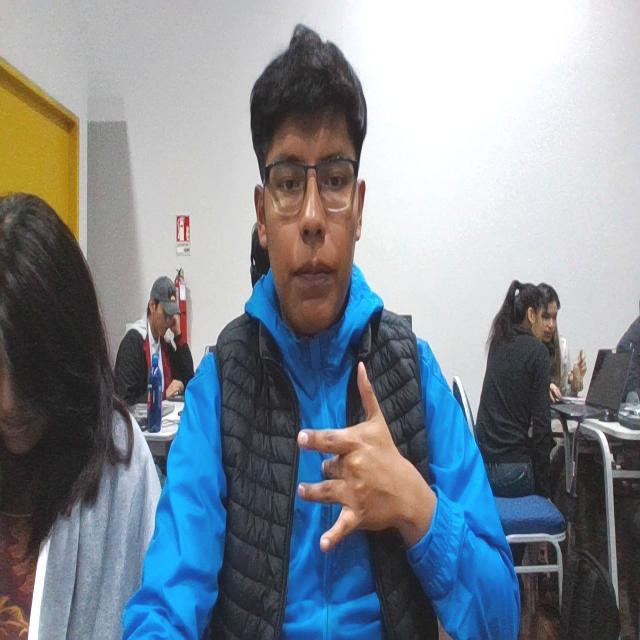feel: (293, 352, 418, 570)
